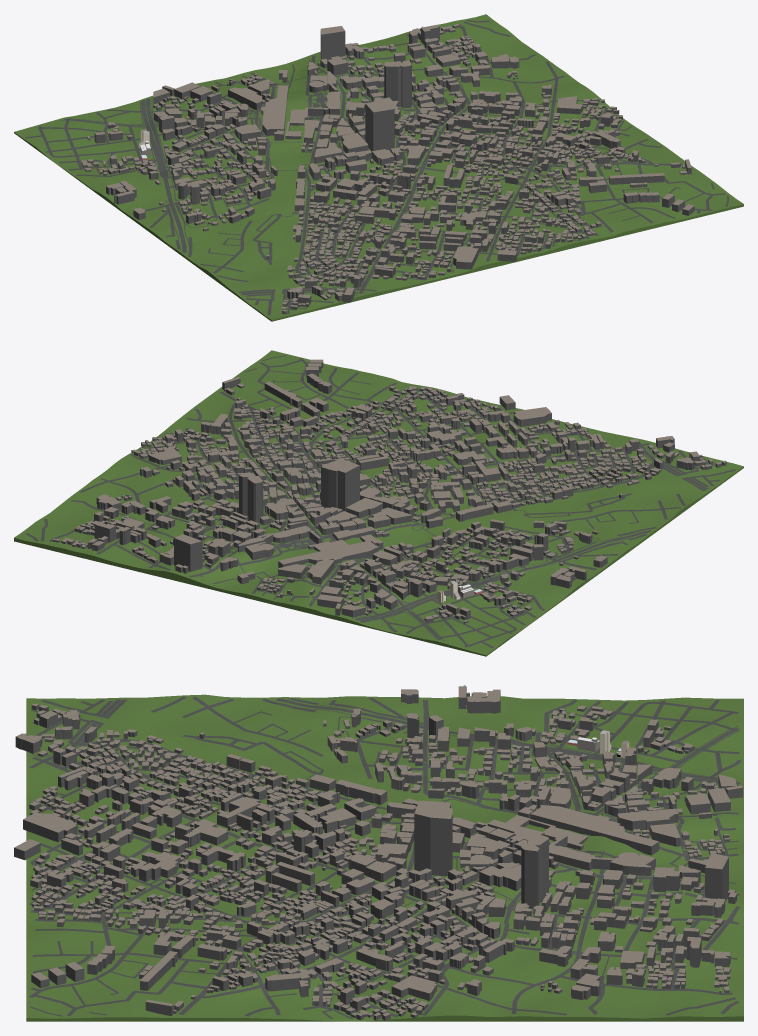
3 renders of one model, top to bottom at view 1: azimuth 30°, elevation 25°; view 2: azimuth 150°, elevation 25°; view 3: azimuth 270°, elevation 25°, orthographic. The views are drawn at different scales.
Parts seen in each view (by area): view 1: map_14.osm_buildings, Terrain, map_14.osm_roads_unclassified, map_14.osm_roads_residential, map_14.osm_roads_tertiary, map_14.osm_roads_service, map_14.osm_roads_trunk, map_14.osm_roads_primary, map_14.osm_paths_footway; view 2: map_14.osm_buildings, Terrain, map_14.osm_roads_unclassified, map_14.osm_roads_residential, map_14.osm_roads_tertiary, map_14.osm_roads_service, map_14.osm_roads_trunk, map_14.osm_paths_footway, map_14.osm_roads_primary; view 3: map_14.osm_buildings, Terrain, map_14.osm_roads_unclassified, map_14.osm_roads_residential, map_14.osm_roads_tertiary, map_14.osm_roads_service, map_14.osm_roads_trunk, map_14.osm_roads_primary, map_14.osm_paths_footway.
Part boxes in pixels (x1,y1,x2,y2): map_14.osm_buildings: (81,24,694,314); Terrain: (14,14,743,321); map_14.osm_roads_unclassified: (39,21,713,315); map_14.osm_roads_residential: (25,20,724,307); map_14.osm_roads_tertiary: (64,34,712,291); map_14.osm_roads_service: (96,64,729,313); map_14.osm_roads_trunk: (141,98,186,252); map_14.osm_roads_primary: (241,151,683,295); map_14.osm_paths_footway: (60,55,470,295); map_14.osm_buildings: (52,359,726,623); Terrain: (14,350,743,656); map_14.osm_roads_unclassified: (41,360,735,646); map_14.osm_roads_residential: (25,362,720,647); map_14.osm_roads_tertiary: (80,358,641,639); map_14.osm_roads_service: (162,355,715,607); map_14.osm_roads_trunk: (355,530,651,622); map_14.osm_paths_footway: (125,444,657,640); map_14.osm_roads_primary: (219,391,708,489); map_14.osm_buildings: (14,685,742,1020); Terrain: (26,694,743,1021); map_14.osm_roads_unclassified: (30,698,741,1017); map_14.osm_roads_residential: (30,696,739,1015); map_14.osm_roads_tertiary: (29,727,740,1015); map_14.osm_roads_service: (29,710,738,1019); map_14.osm_roads_trunk: (276,698,740,785); map_14.osm_roads_primary: (43,699,377,1014); map_14.osm_paths_footway: (31,698,739,975).
Bounding box in the file's own units: 118271 × 11578 × 113211.
